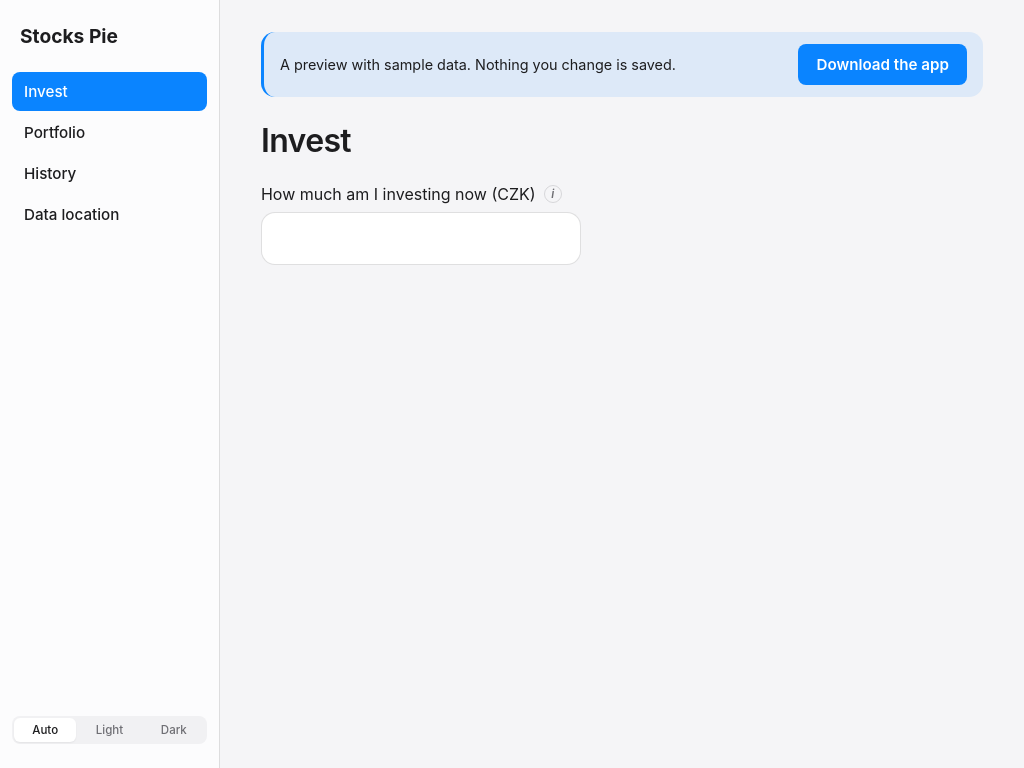
it: App › reports a failed save instead of dropping it silently
This screenshot has width=1024, height=768.
In the number field labelled "How much am I investing now (CZK)": (421, 239) [261,212,581,265], type "100000"
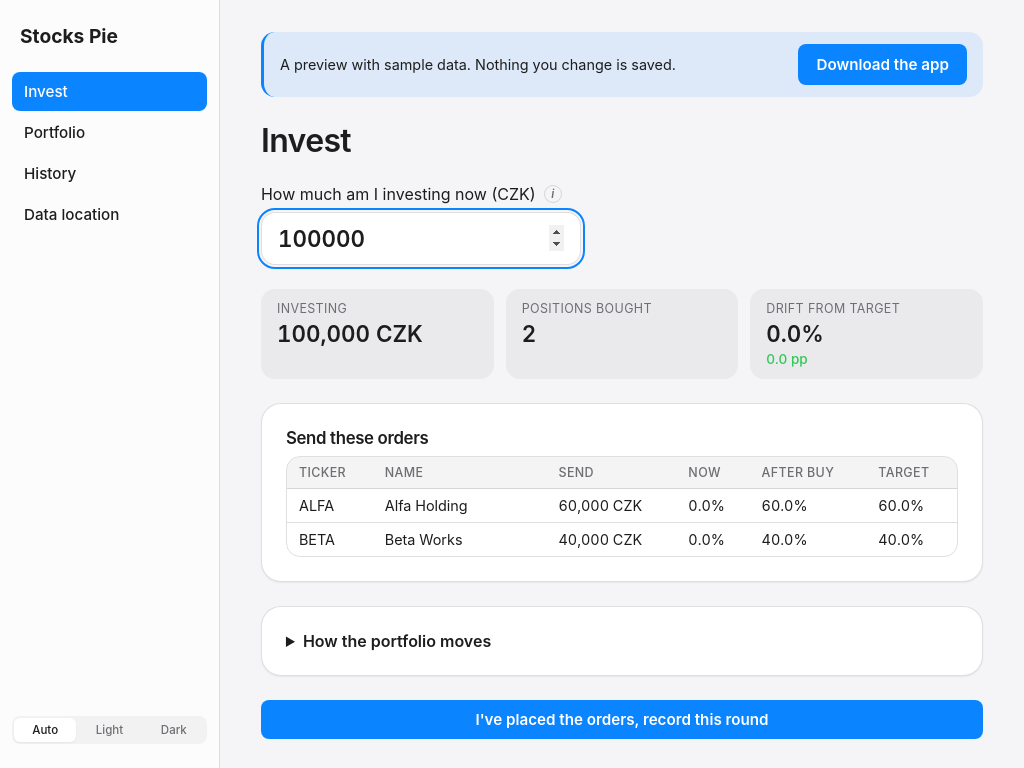
Click the button "I've placed the orders, record this round": (622, 720) [261,700,983,739]
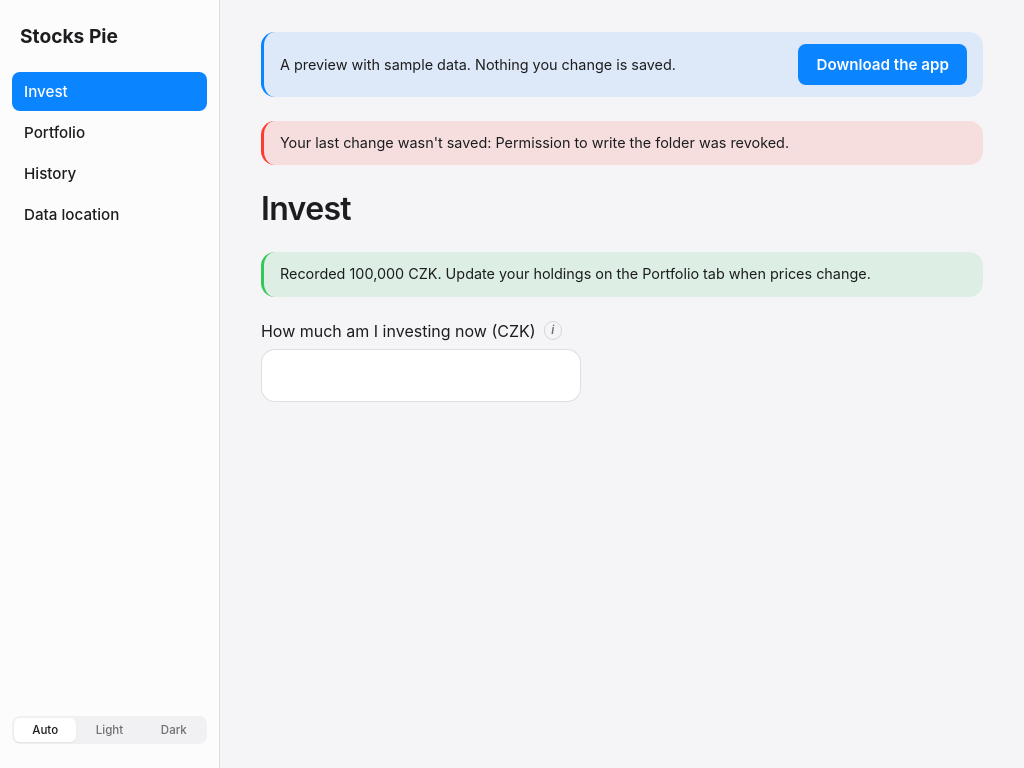
Check: the text "Permission to write the folder was revoked" is shown, box [495,134,789,151]
